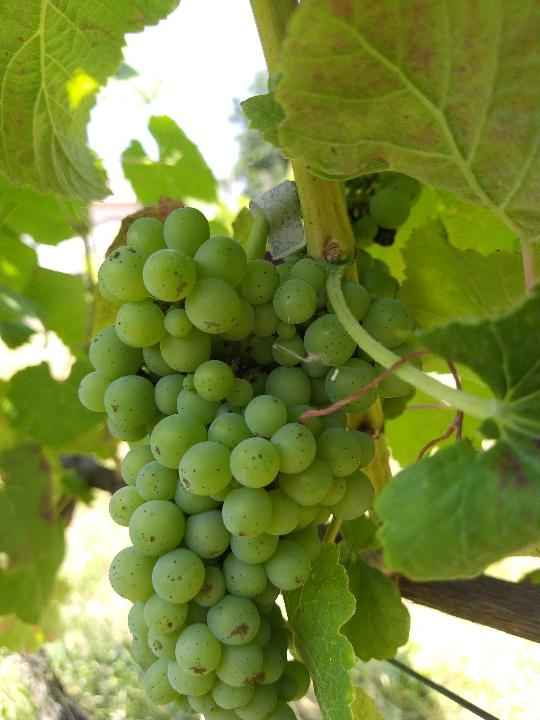grape: (77, 207, 424, 719)
